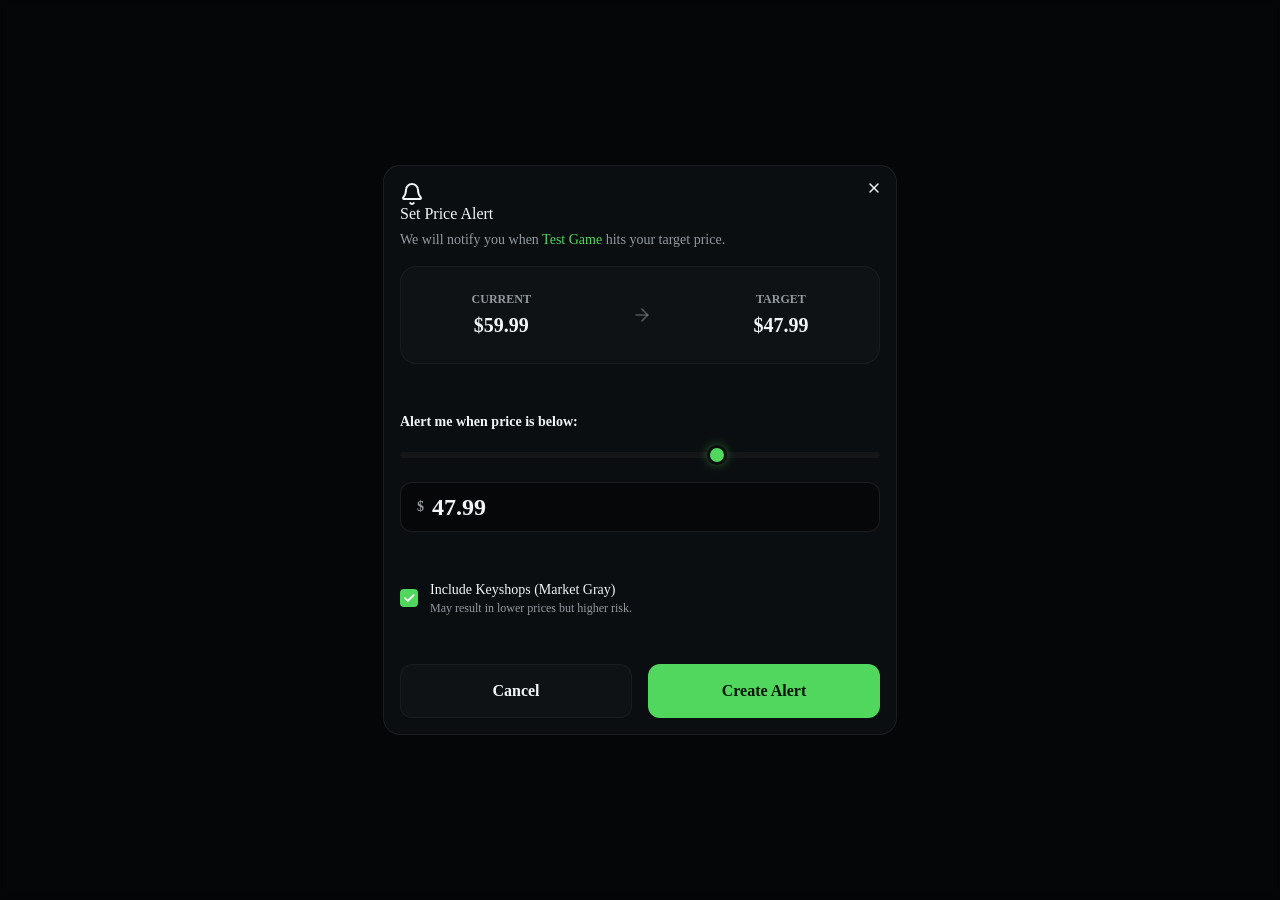
Test case: PriceAlertModal › shows error message when save fails
The width and height of the screenshot is (1280, 900).
Click the button "Create Alert": (764, 691) [648,664,880,718]
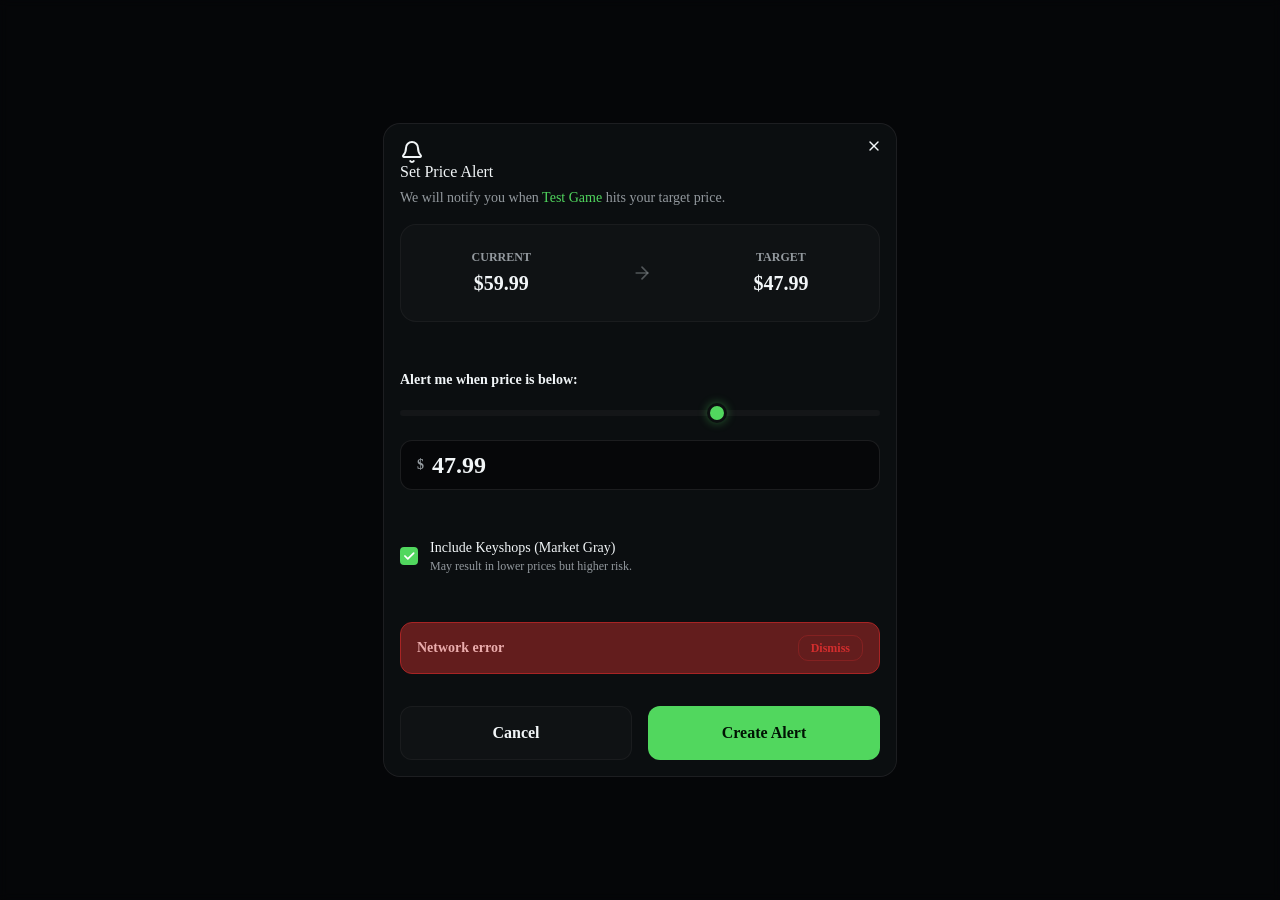
Expected: the text "Network error" is shown, [417,638,504,658]
